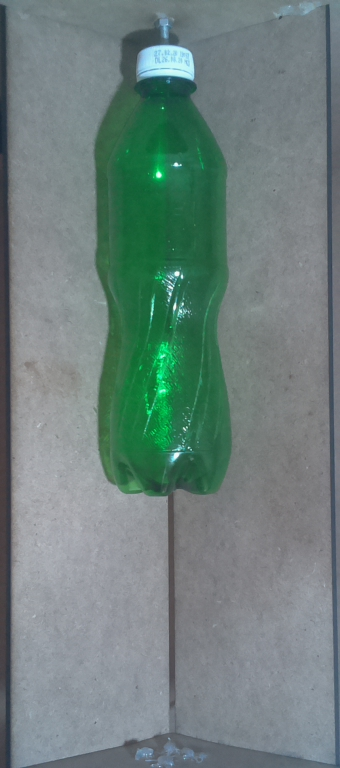Bouteille_0.5L: (93, 37, 244, 507)
